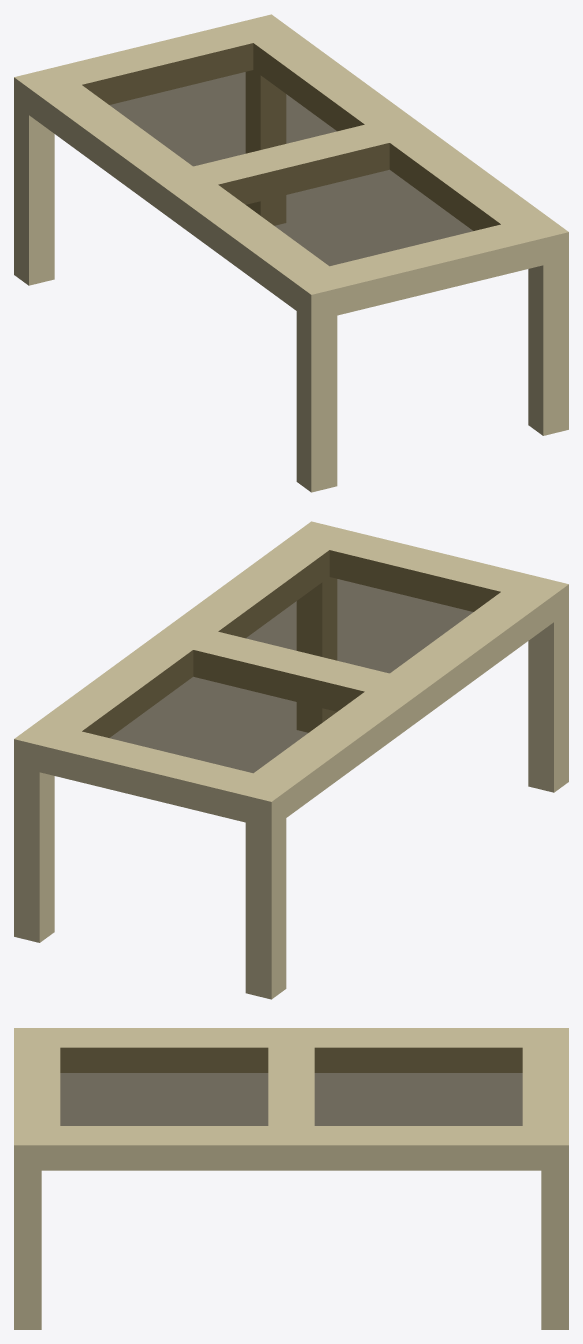
3 renders of one model, top to bottom at view 1: azimuth 30°, elevation 25°; view 2: azimuth 150°, elevation 25°; view 3: azimuth 270°, elevation 25°, orthographic. The views are drawn at different scales.
Parts seen in each view (by area): view 1: Mesh1_Table_Coffee_Glass1_Model.001; view 2: Mesh1_Table_Coffee_Glass1_Model.001; view 3: Mesh1_Table_Coffee_Glass1_Model.001.
Part boxes in pixels (box(x1,y1,x2,y2)): Mesh1_Table_Coffee_Glass1_Model.001: box(14, 14, 568, 492); Mesh1_Table_Coffee_Glass1_Model.001: box(14, 521, 568, 999); Mesh1_Table_Coffee_Glass1_Model.001: box(14, 1028, 568, 1329).
Size of the model in its own units: 0.4994 by 0.3662 by 0.9987.
